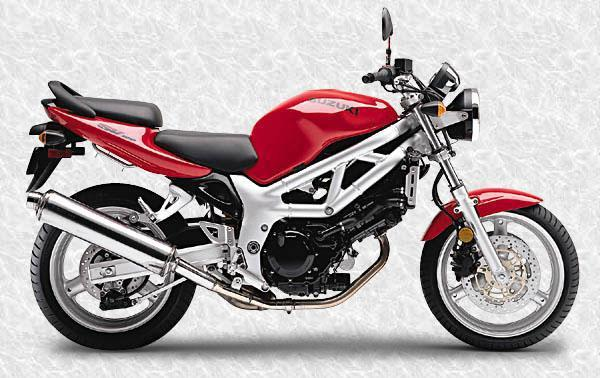Motorcycle: (16, 14, 599, 364)
